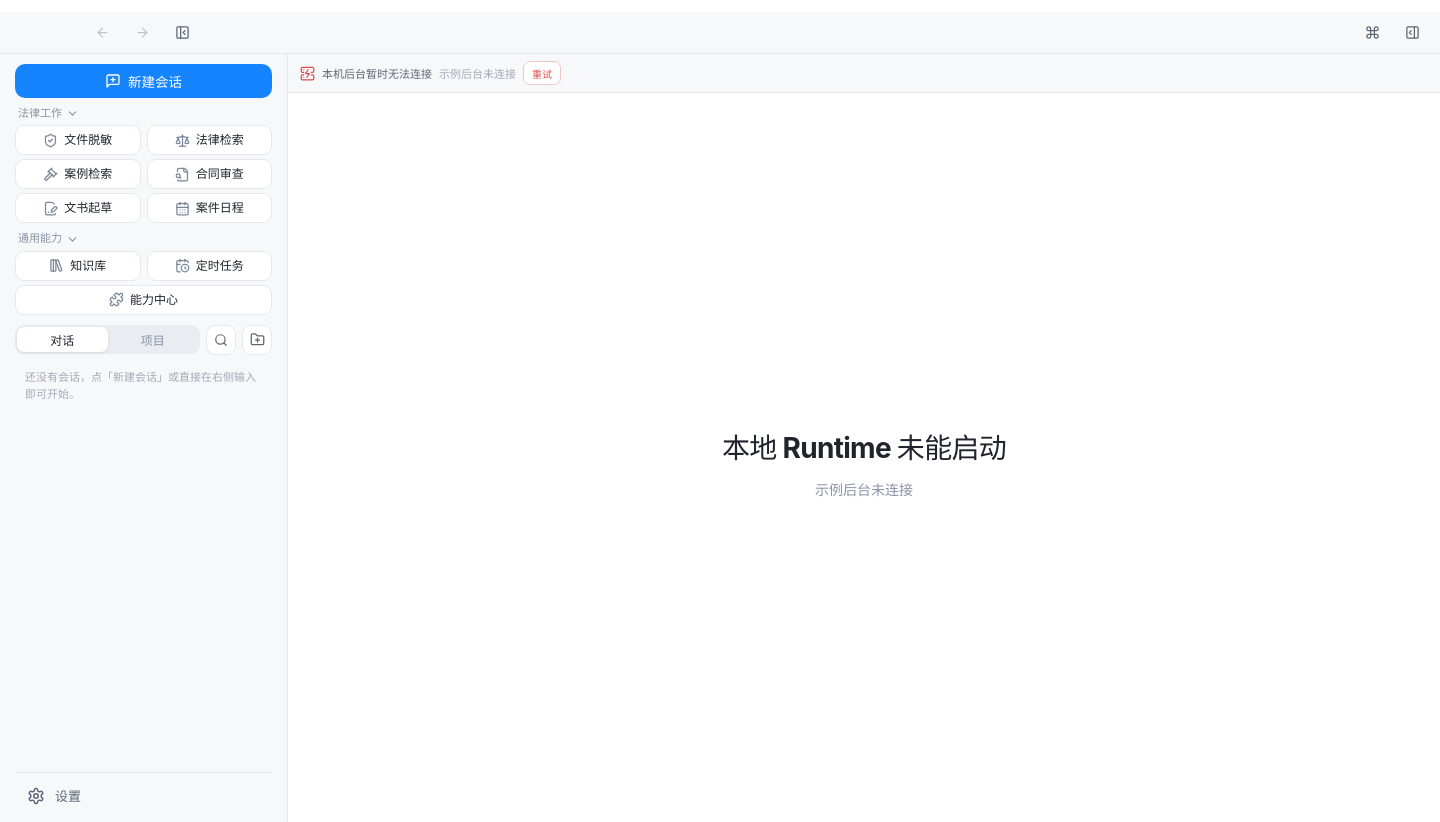
Scenario: local help and a safe template remain reachable when runtime startup fails
The image size is (1440, 822).
Click the button "设置" at (144, 796), box left=15, top=779, right=272, bottom=812
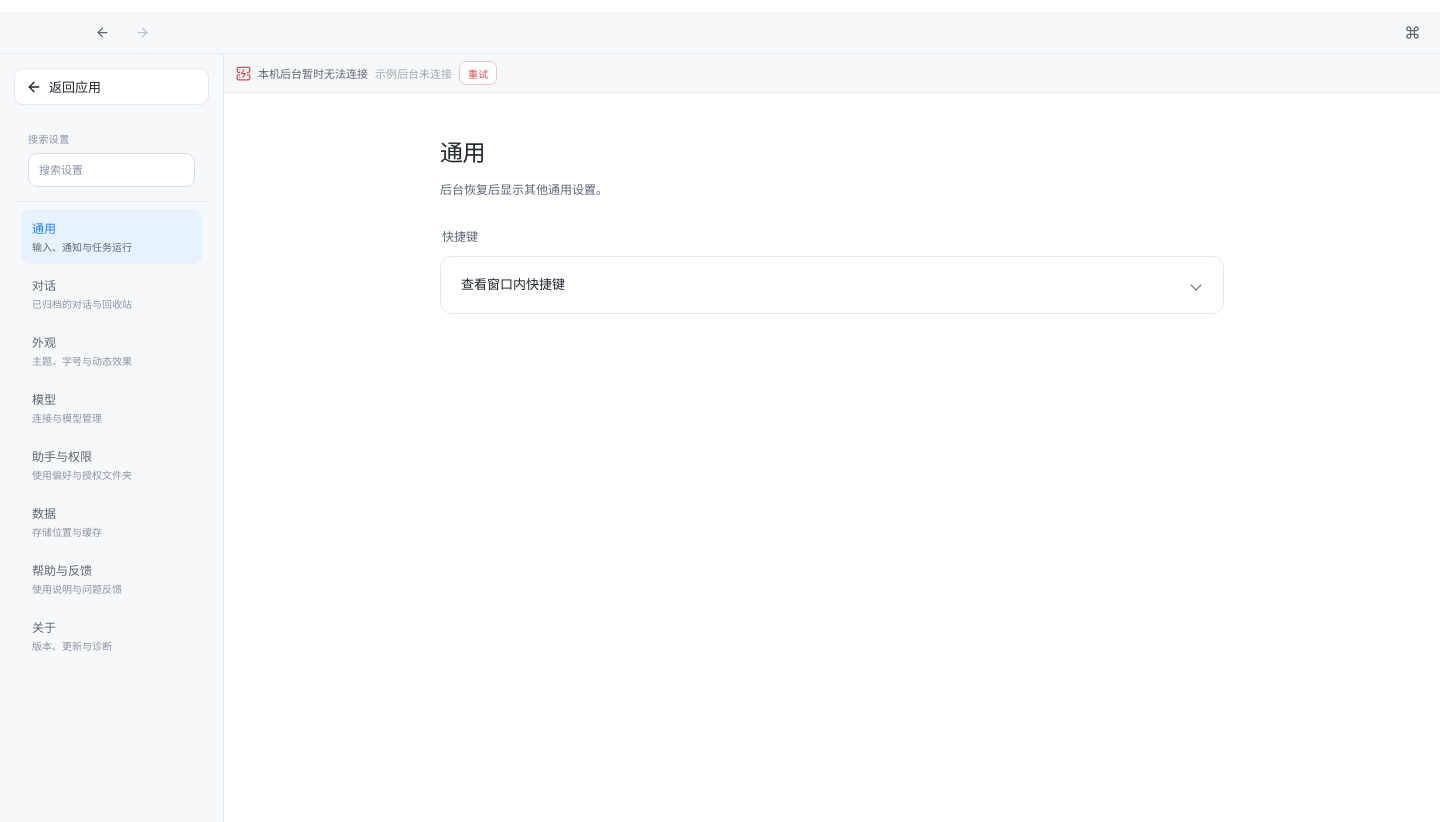
Click the button "帮助与反馈 使用说明与问题反馈" at (112, 578), box left=21, top=551, right=202, bottom=606
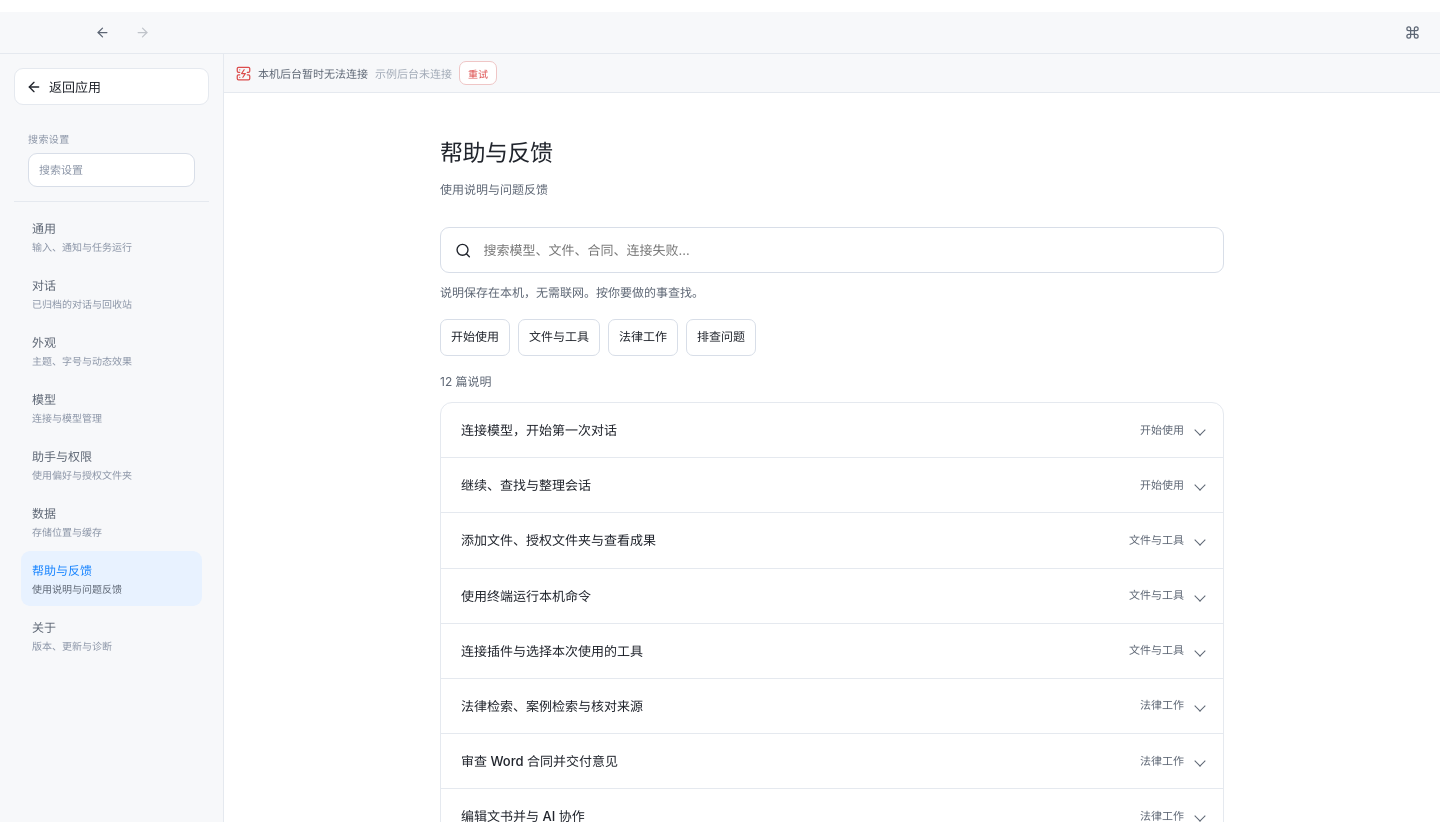
Now the search field named "搜索使用说明" is shown, box left=481, top=238, right=1209, bottom=262
